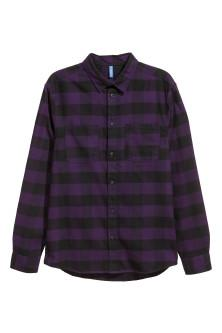teeshirt: (9, 52, 216, 280)
